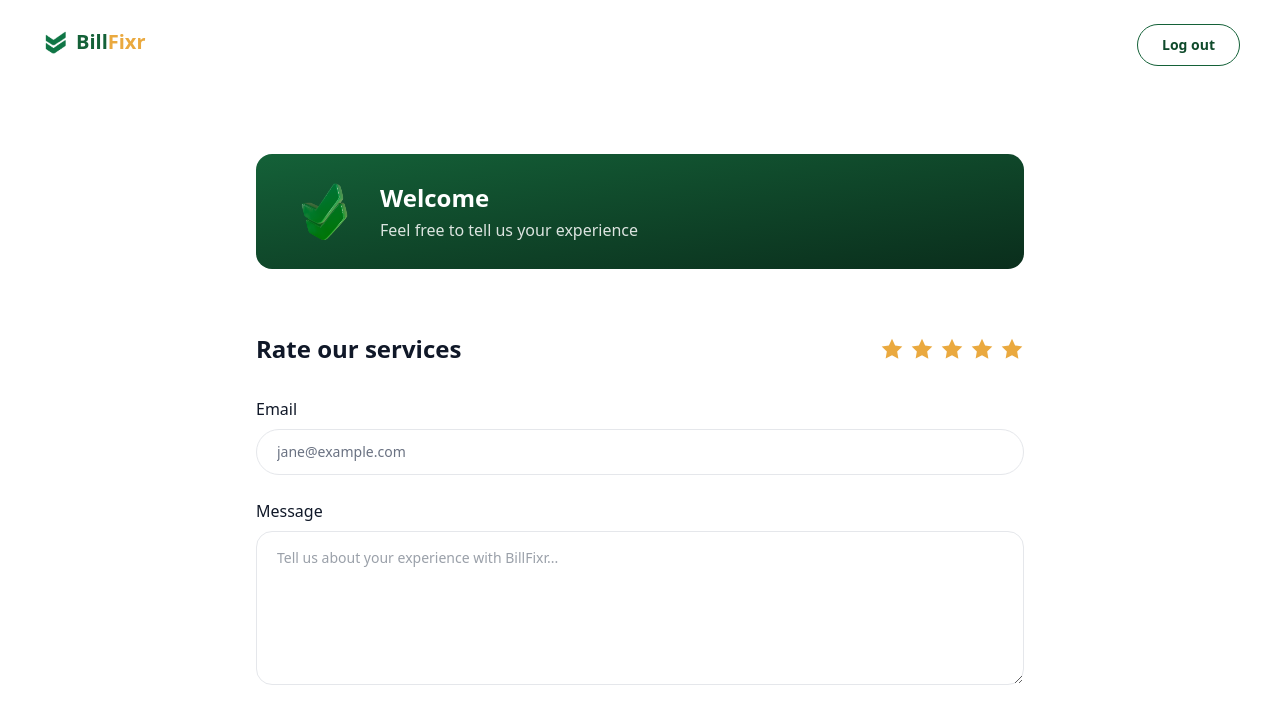
Test: TestimonialForm › submits the rating and trimmed message, then shows the thank-you screen
The image size is (1280, 712).
Click the button named "Rate 3 stars" at (952, 349), box x1=940 y1=337 x2=964 y2=361
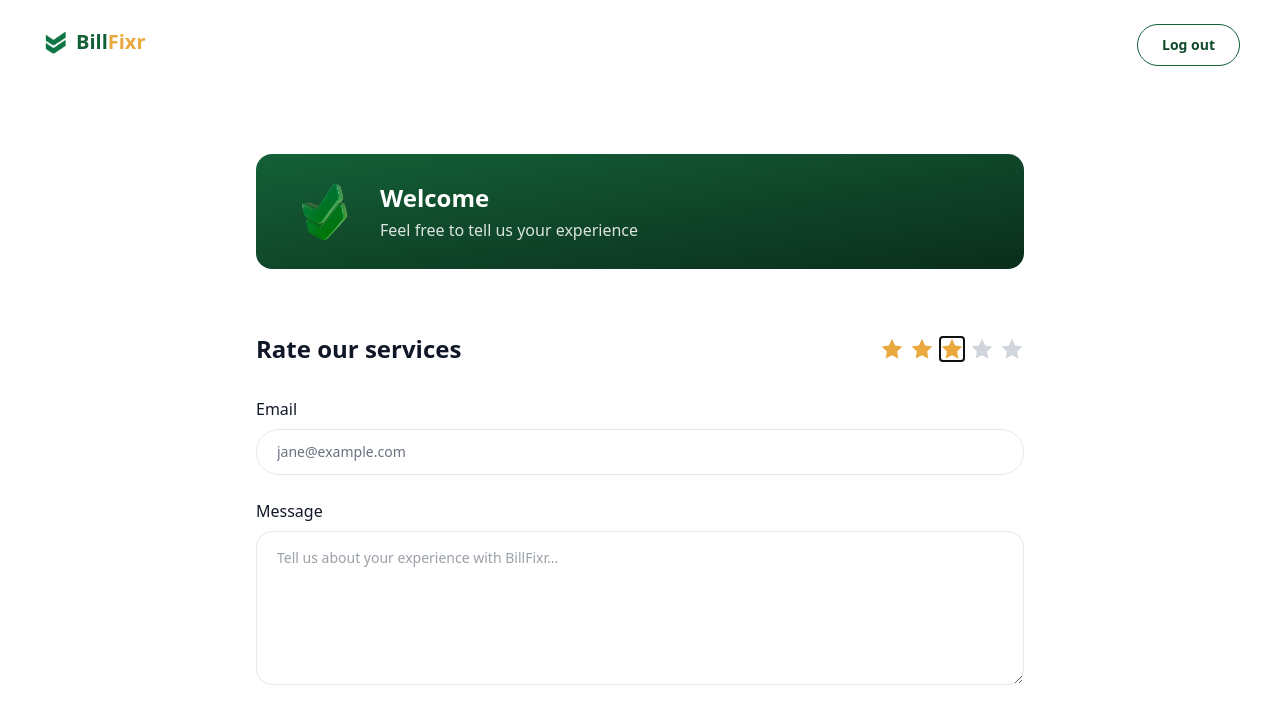
Type "  Great service!  " into the text box with placeholder "Tell us about your experience with BillFixr..." at (640, 608), box x1=256 y1=531 x2=1024 y2=685
(page scrolled)
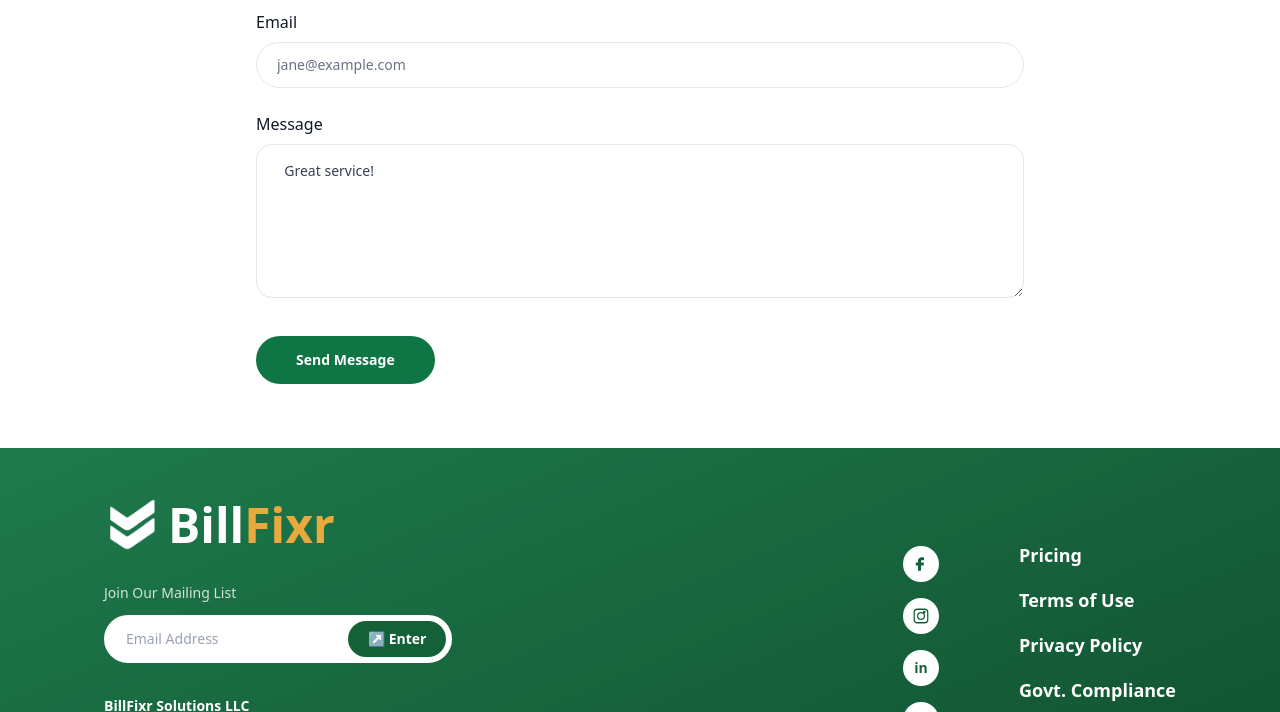
Click the button "Send Message" at (345, 360), box x1=256 y1=336 x2=435 y2=384
(page scrolled)
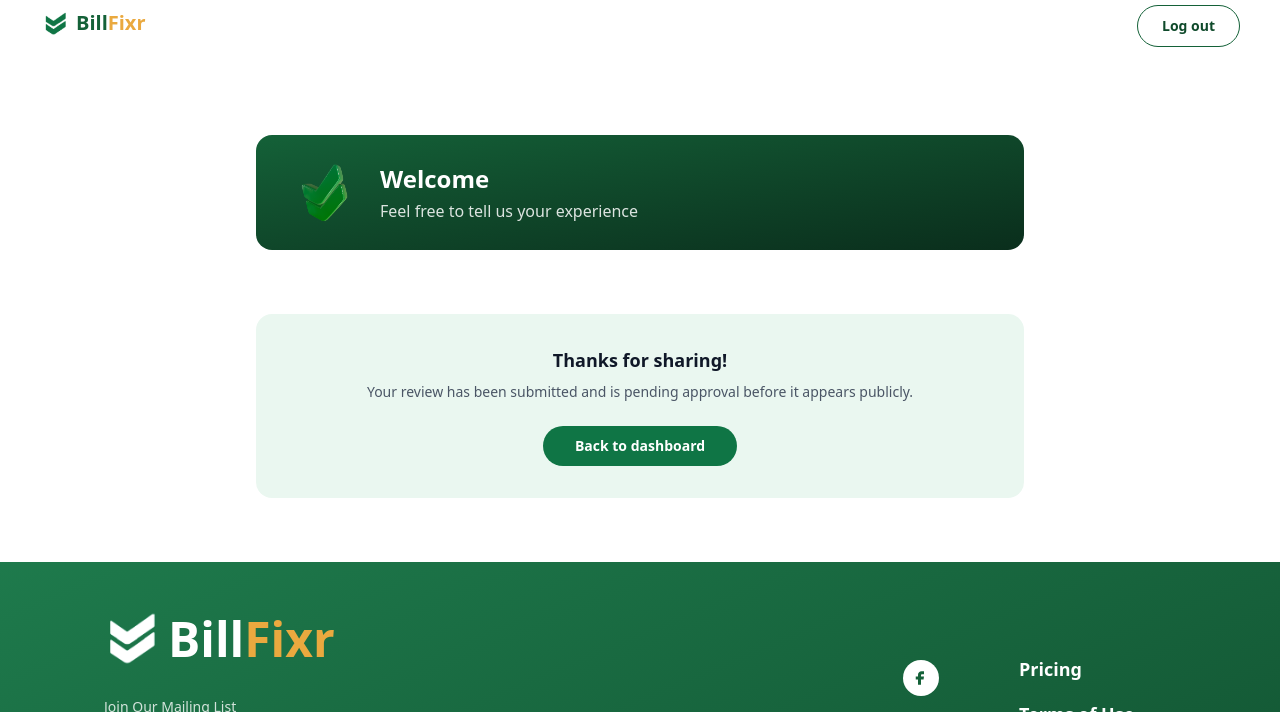
Now the text "Thanks for sharing!" is shown, box x1=553 y1=348 x2=727 y2=372
